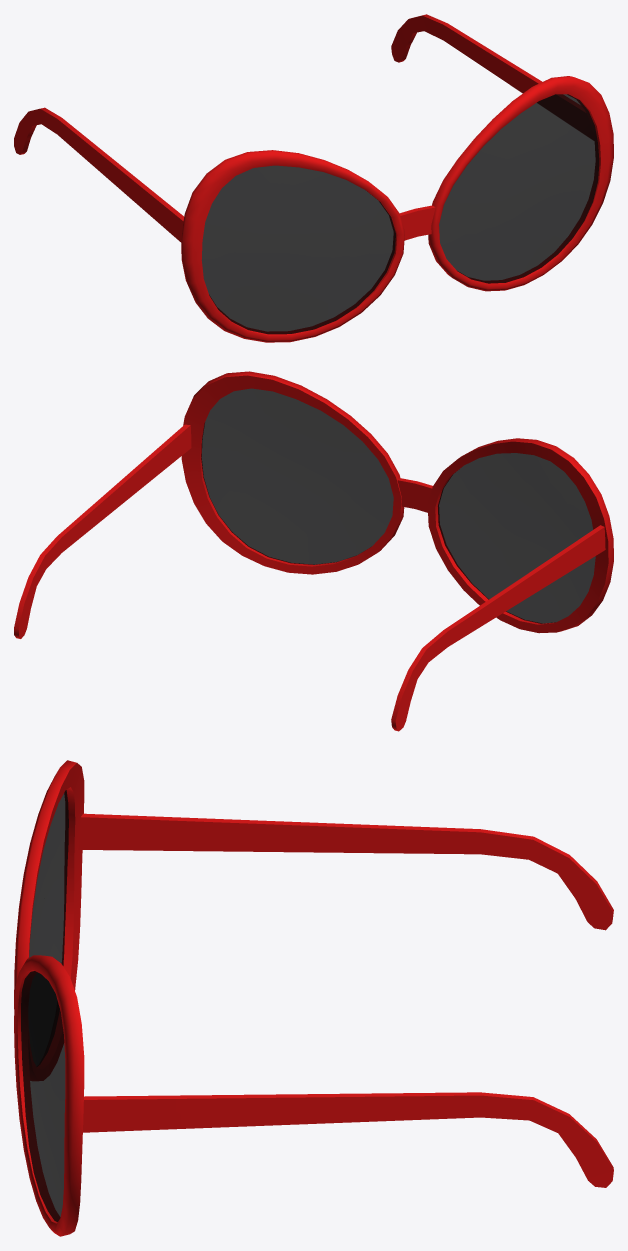
The model's file is LadySunglasses.fbx.
3 views of the same model, one above another, from view 1: azimuth 30°, elevation 25°; view 2: azimuth 150°, elevation 25°; view 3: azimuth 270°, elevation 25° (orthographic). The views are drawn at different scales.
Visible parts, largest first — view 1: LadySunglasses; view 2: LadySunglasses; view 3: LadySunglasses.
Boxes of the visible parts, x1,y1,x2,y2 form: LadySunglasses: (14,14,613,342); LadySunglasses: (14,371,613,731); LadySunglasses: (14,760,613,1236).
Bounding box in the file's own units: 75.1 × 32.28 × 64.8.
